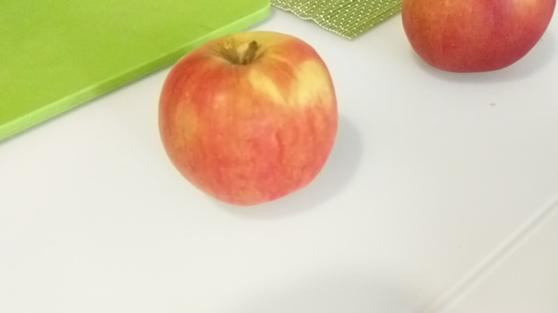apple: (162, 34, 341, 204), (404, 1, 554, 73)
